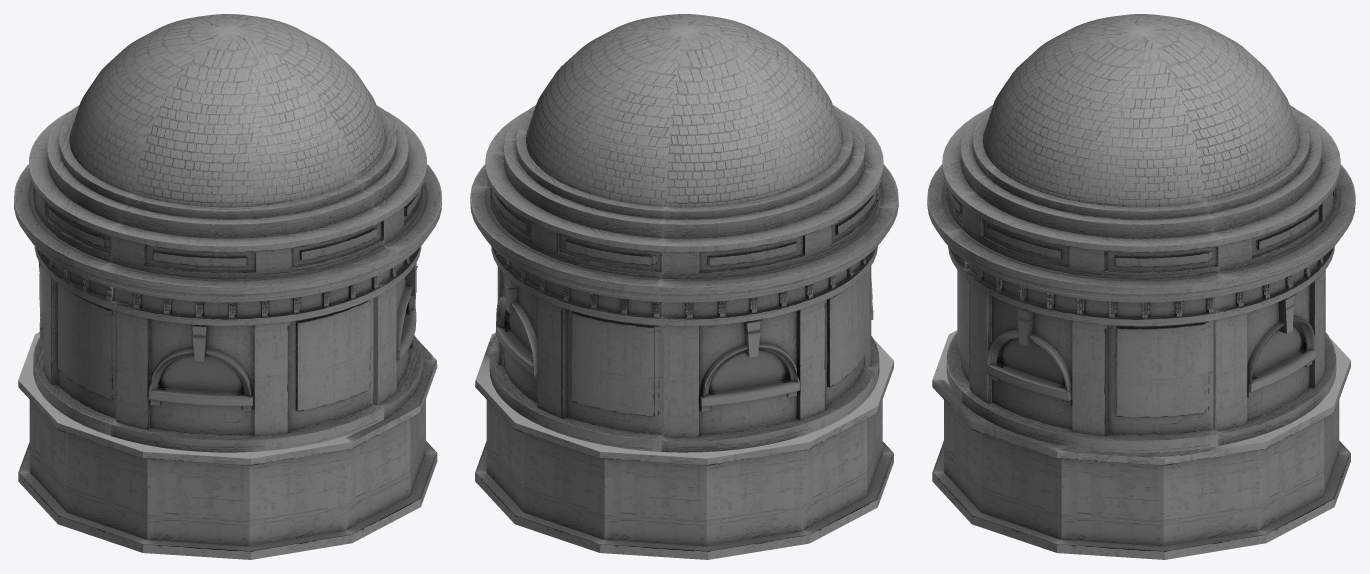
The model's file is bg_tower2.dae.
3 views of the same model, side by side, from view 1: azimuth 30°, elevation 25°; view 2: azimuth 150°, elevation 25°; view 3: azimuth 270°, elevation 25° (orthographic).
Parts seen in each view (by area): view 1: bg_tower2; view 2: bg_tower2; view 3: bg_tower2.
Part boxes in pixels (left/top/right/bottom): bg_tower2: left=14, top=14, right=441, bottom=559; bg_tower2: left=470, top=14, right=898, bottom=559; bg_tower2: left=927, top=14, right=1355, bottom=559.
Bounding box in the file's own units: 18.2 × 18.2 × 20.71.
Materials: 1 (1 with a texture image).
